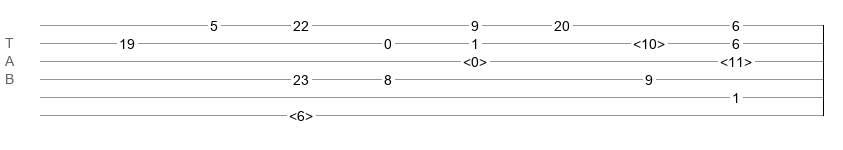0: (384, 36, 392, 46)
1: (471, 36, 479, 46), (732, 90, 740, 100)
19: (119, 36, 135, 46)
20: (554, 18, 570, 28)
22: (293, 18, 309, 28)
23: (293, 72, 309, 82)
5: (210, 18, 218, 28)
6: (732, 36, 740, 46), (732, 18, 740, 28)
8: (384, 72, 392, 82)
9: (471, 18, 479, 28), (645, 72, 653, 82)
harmonic: (633, 36, 665, 46), (720, 54, 752, 64), (289, 108, 313, 118), (463, 54, 487, 64)
